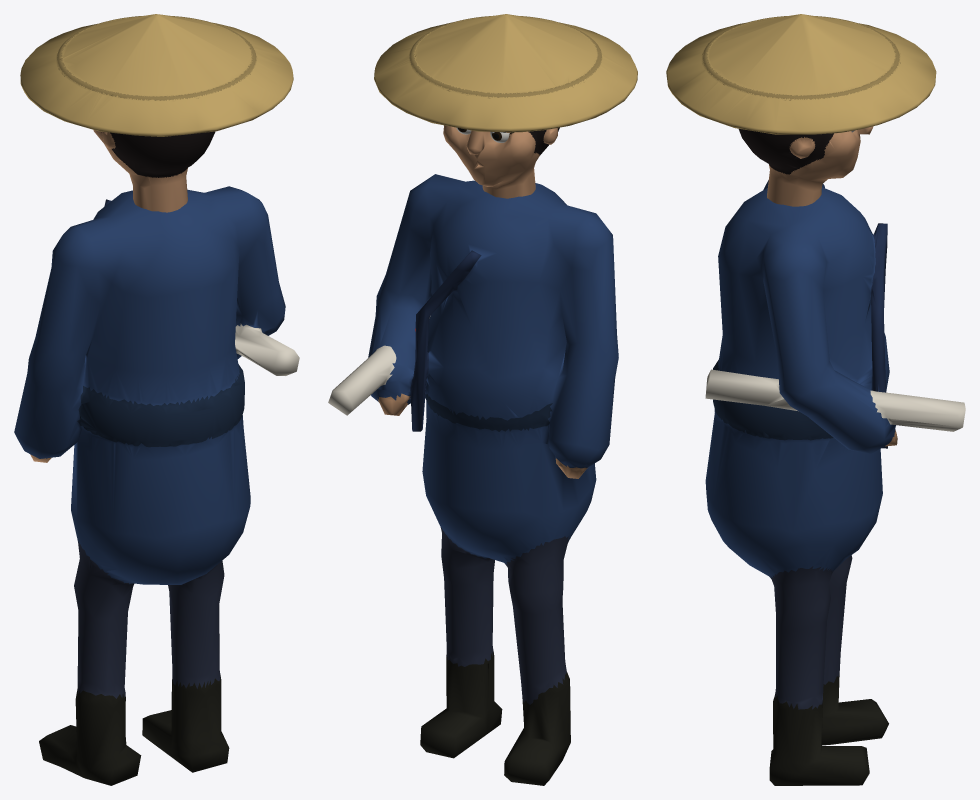
The picture shows the model from 3 angles, left to right: view 1: azimuth 30°, elevation 25°; view 2: azimuth 150°, elevation 25°; view 3: azimuth 270°, elevation 25°; orthographic projection. The views are drawn at different scales.
Parts seen in each view (by area): view 1: body_lod0, head_lod0; view 2: body_lod0, head_lod0; view 3: body_lod0, head_lod0.
Boxes of the visible parts, x1,y1,x2,y2 form: body_lod0: (14,186,299,785); head_lod0: (20,14,293,212); body_lod0: (328,174,618,785); head_lod0: (374,14,637,198); body_lod0: (705,180,965,785); head_lod0: (666,14,936,206).
Size of what is drawn, in the model's own units: 0.6793 by 1.98 by 0.7179.
